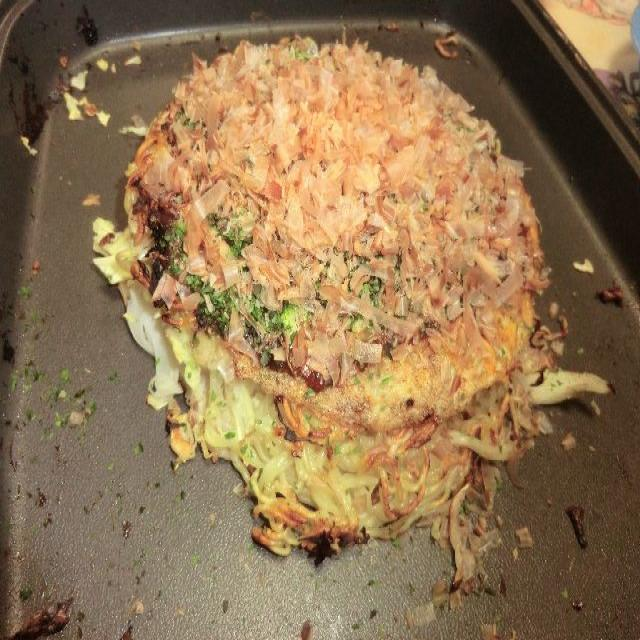蛋糕甜品: (100, 32, 592, 560)
